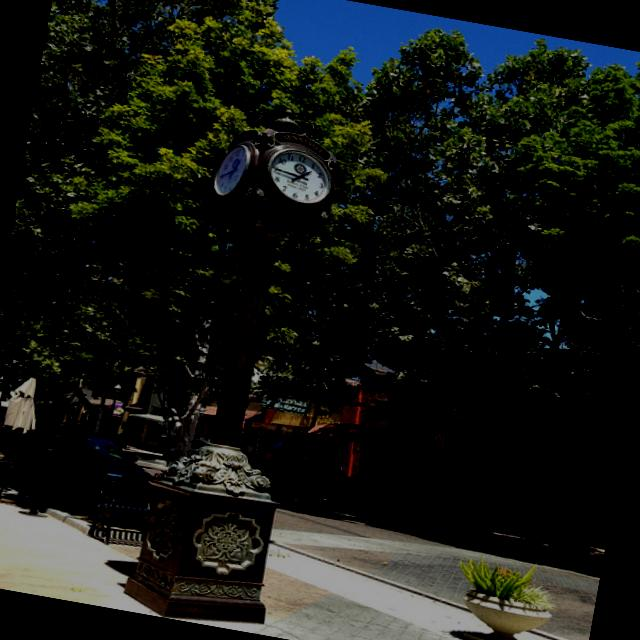Vehicle: (0, 418, 157, 526), (314, 451, 488, 540), (244, 446, 349, 507), (50, 416, 99, 442)
